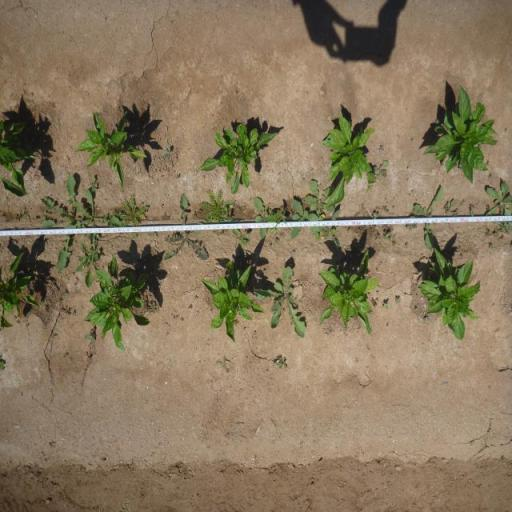plant: (422, 82, 499, 184), (420, 248, 482, 340), (199, 122, 276, 192), (320, 112, 375, 206), (95, 258, 149, 350), (318, 251, 375, 336), (200, 260, 258, 341), (74, 112, 147, 176), (0, 116, 42, 198), (0, 252, 37, 330)
weed: (258, 266, 308, 339), (42, 174, 79, 271), (162, 194, 206, 260), (72, 191, 120, 249), (406, 186, 444, 250), (484, 180, 512, 231), (76, 236, 99, 289), (200, 190, 233, 224), (116, 194, 148, 228), (290, 199, 316, 239), (319, 209, 343, 252), (305, 178, 334, 212), (252, 195, 272, 240), (268, 212, 286, 234), (442, 198, 460, 218), (232, 228, 251, 246), (373, 159, 389, 178), (272, 354, 288, 370), (216, 356, 230, 374), (382, 224, 393, 242), (12, 210, 28, 222), (86, 328, 96, 344), (162, 145, 172, 160), (60, 306, 74, 316), (90, 175, 98, 192), (224, 208, 234, 221), (148, 301, 158, 312), (40, 210, 51, 220), (358, 224, 368, 234), (192, 209, 202, 219), (404, 224, 418, 230), (382, 300, 390, 310), (469, 203, 474, 217), (371, 212, 379, 220), (369, 224, 377, 232), (132, 232, 140, 240), (371, 298, 378, 307), (383, 204, 389, 214), (484, 228, 492, 235), (394, 297, 402, 304), (366, 184, 373, 192), (235, 204, 241, 212), (44, 304, 49, 312), (424, 316, 430, 322), (274, 238, 280, 244), (500, 234, 505, 240), (375, 234, 380, 240), (234, 320, 239, 326), (61, 290, 66, 296), (392, 240, 396, 247), (490, 242, 494, 249), (379, 146, 384, 151), (494, 232, 498, 238), (504, 126, 508, 132), (188, 304, 192, 310), (173, 314, 177, 320), (126, 248, 130, 254), (72, 270, 76, 276), (176, 173, 180, 178), (180, 317, 184, 322), (269, 243, 272, 248), (411, 137, 414, 141), (194, 296, 197, 300), (74, 282, 77, 286)
